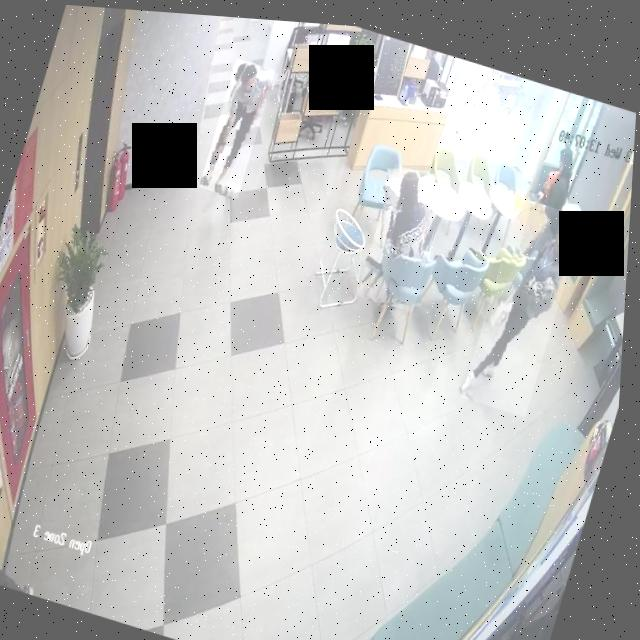person: (464, 186, 587, 411), (359, 155, 453, 307), (200, 53, 276, 197), (520, 131, 582, 252)
